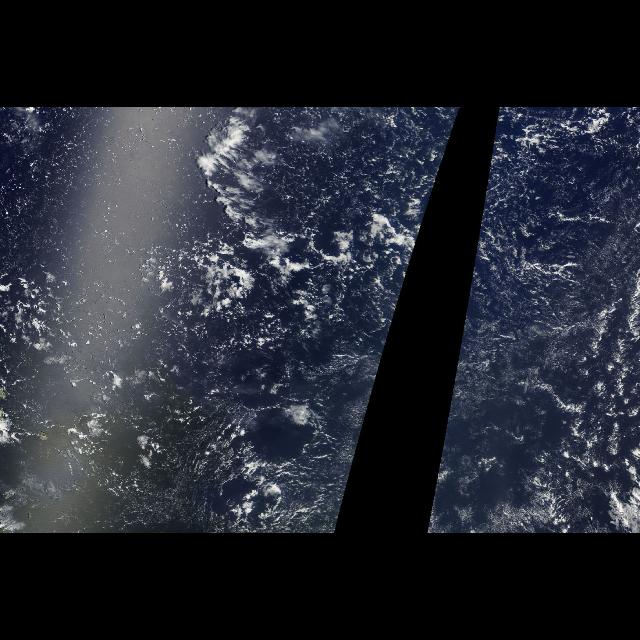Gravel: (228, 122, 458, 284), (471, 122, 585, 284)
Sugar: (432, 198, 634, 508), (246, 296, 399, 508)
